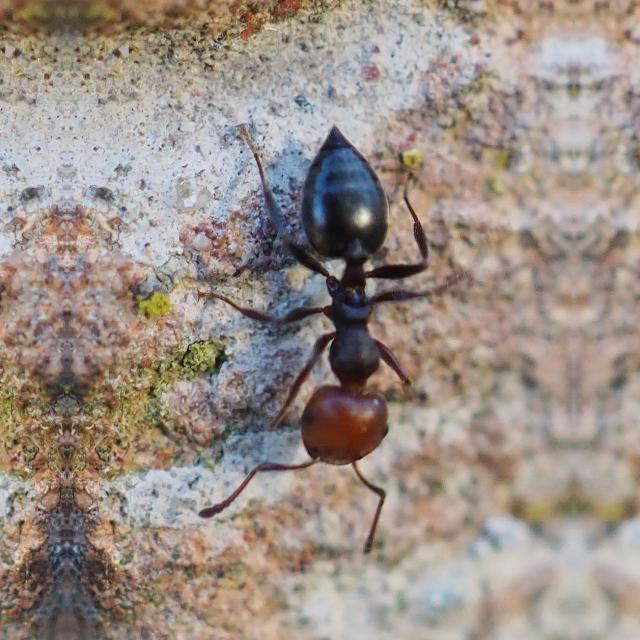Crematogaster: (216, 112, 412, 528)
